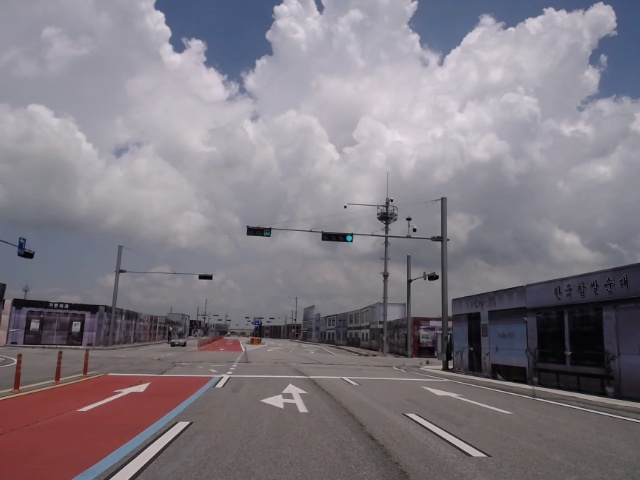straight_green_4: (321, 230, 355, 244)
